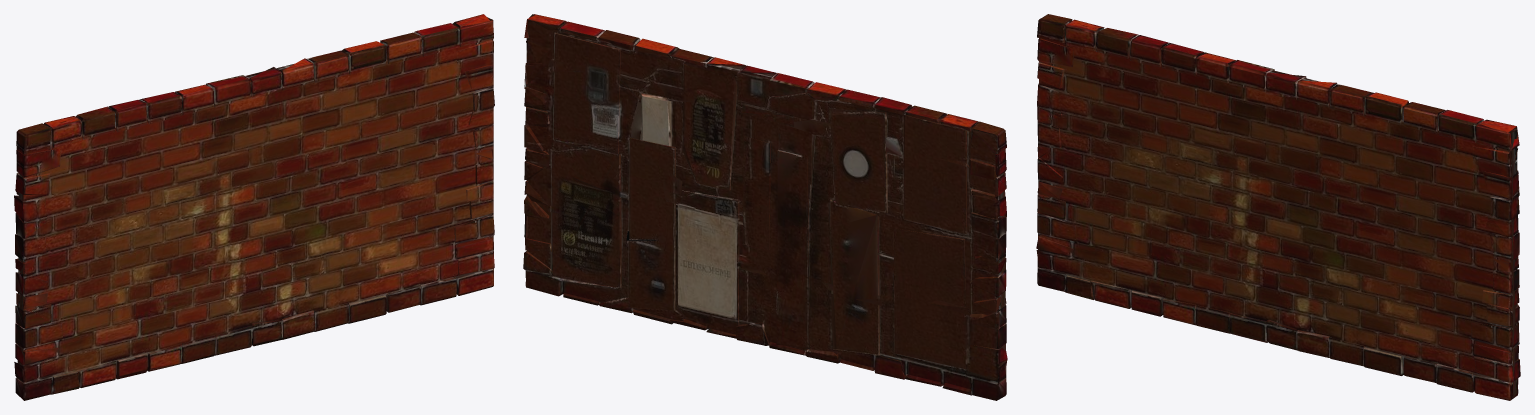
Rendered from mur_vide.glb.
3 views of the same model, side by side, from view 1: azimuth 30°, elevation 25°; view 2: azimuth 150°, elevation 25°; view 3: azimuth 330°, elevation 25° (orthographic).
Parts seen in each view (by area): view 1: world; view 2: world; view 3: world.
Part boxes in pixels (x1,y1,x2,y2): world: (14, 14, 494, 400); world: (523, 14, 1007, 400); world: (1036, 14, 1520, 400).
Bounding box in the file's own units: 1.79 × 0.9785 × 0.074.
1 material, 1 textured.
